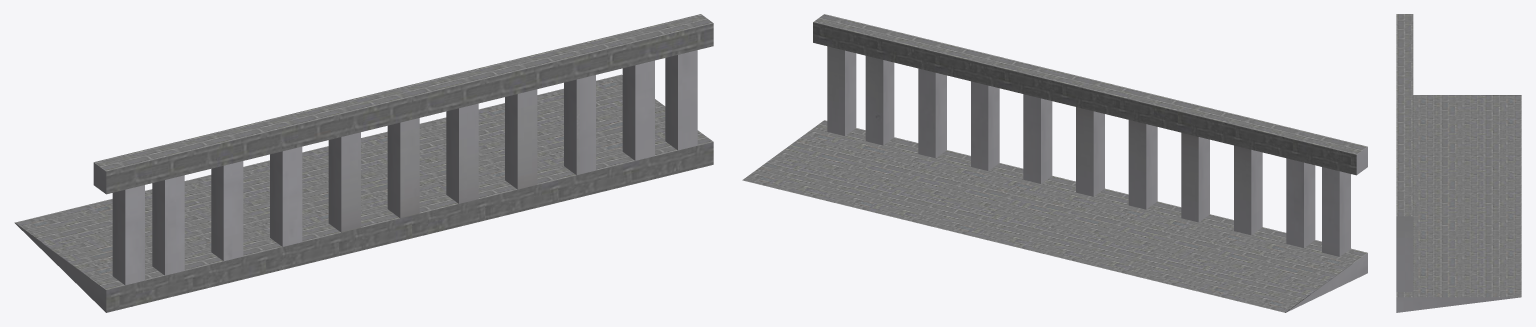
The model's file is BALCONY_1.fbx.
The picture shows the model from 3 angles, left to right: view 1: azimuth 30°, elevation 25°; view 2: azimuth 150°, elevation 25°; view 3: azimuth 270°, elevation 25°; orthographic projection. The views are drawn at different scales.
Visible parts, largest first — view 1: Balcony1; view 2: Balcony1; view 3: Balcony1.
Boxes of the visible parts, x1,y1,x2,y2 form: Balcony1: (14,14,713,312); Balcony1: (742,14,1367,312); Balcony1: (1396,14,1521,312).
Size of the model in its own units: 107 by 23.91 by 28.17.
Materials: 1 (1 with a texture image).
